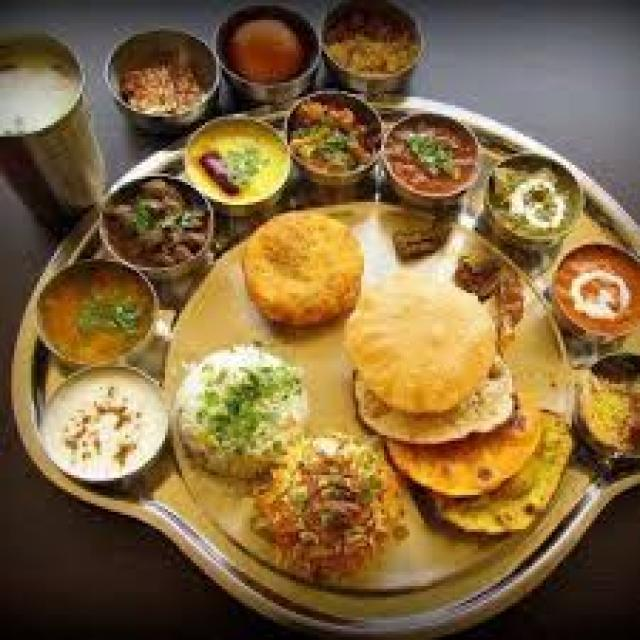curd: (31, 363, 175, 493)
dal: (25, 252, 166, 380)
papad: (240, 209, 364, 316)
raita: (0, 36, 89, 150)
rice: (171, 336, 325, 491)
roti: (369, 269, 550, 535)
sweet: (218, 7, 320, 91)
veg: (542, 241, 640, 350)
